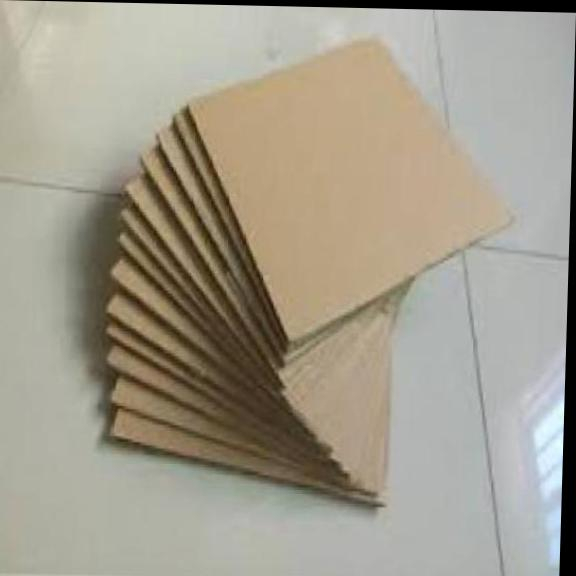Kertas: (108, 41, 509, 503), (177, 25, 516, 346)
